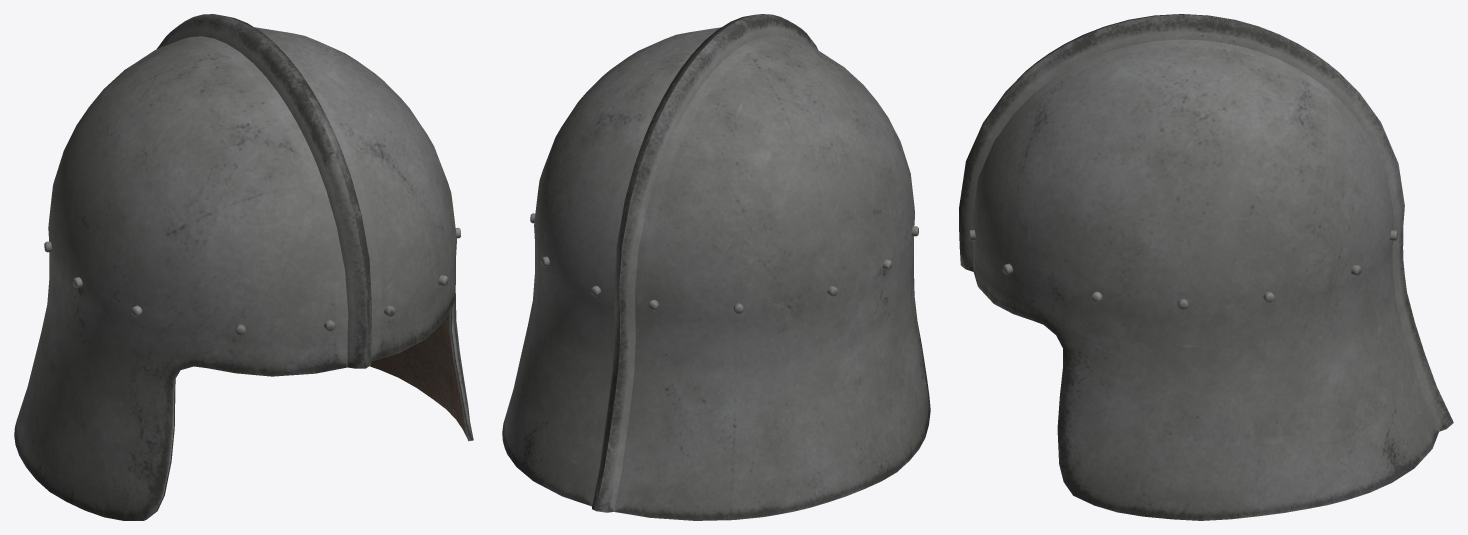
File: helmet_-_archery.glb
The picture shows the model from 3 angles, left to right: view 1: azimuth 30°, elevation 25°; view 2: azimuth 150°, elevation 25°; view 3: azimuth 270°, elevation 25°; orthographic projection. The views are drawn at different scales.
Parts seen in each view (by area): view 1: SM_Helmet_Archers.001; view 2: SM_Helmet_Archers.001; view 3: SM_Helmet_Archers.001.
Boxes of the visible parts, x1,y1,x2,y2 form: SM_Helmet_Archers.001: (14,14,473,520); SM_Helmet_Archers.001: (502,14,930,520); SM_Helmet_Archers.001: (959,14,1453,520).
Size of the model in its own units: 1.78 by 1.85 by 2.
1 material, 1 textured.
